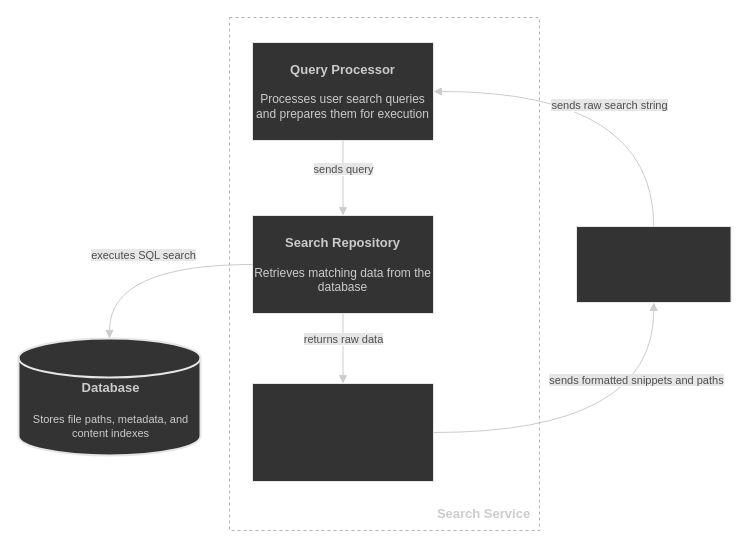
The diagram is 748 pixels wide and 548 high, and some of its shapes have lost their labels. The shapes that lost their labels are listed below. From the top down, each one's centre as x and y in pixels, then its label:
At point (653, 264): "User Interface (GUI) [GUI / CLI] Display results as the user types".
At point (343, 432): "Result Formatter Formats search results and prepares data for presentation".
